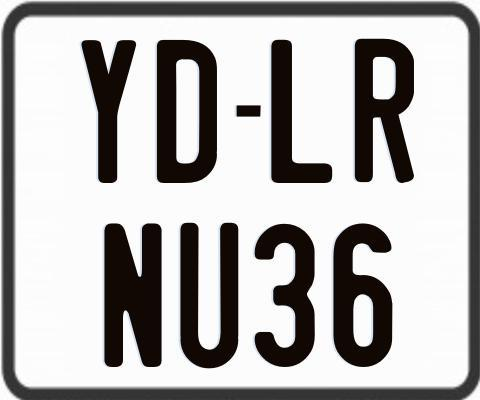3: (253, 224, 319, 367)
6: (331, 220, 393, 365)
D: (156, 40, 216, 188)
L: (268, 40, 330, 183)
N: (104, 220, 162, 370)
R: (355, 36, 418, 183)
U: (177, 222, 241, 370)
Y: (78, 40, 133, 183)
